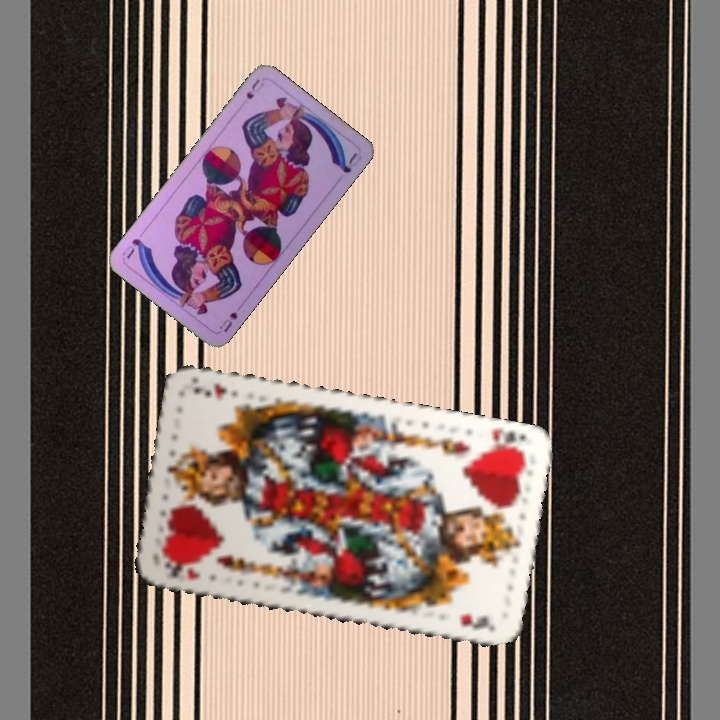HK: (487, 425, 532, 457), (158, 554, 202, 583)
SU: (242, 74, 267, 102), (215, 308, 240, 335)
